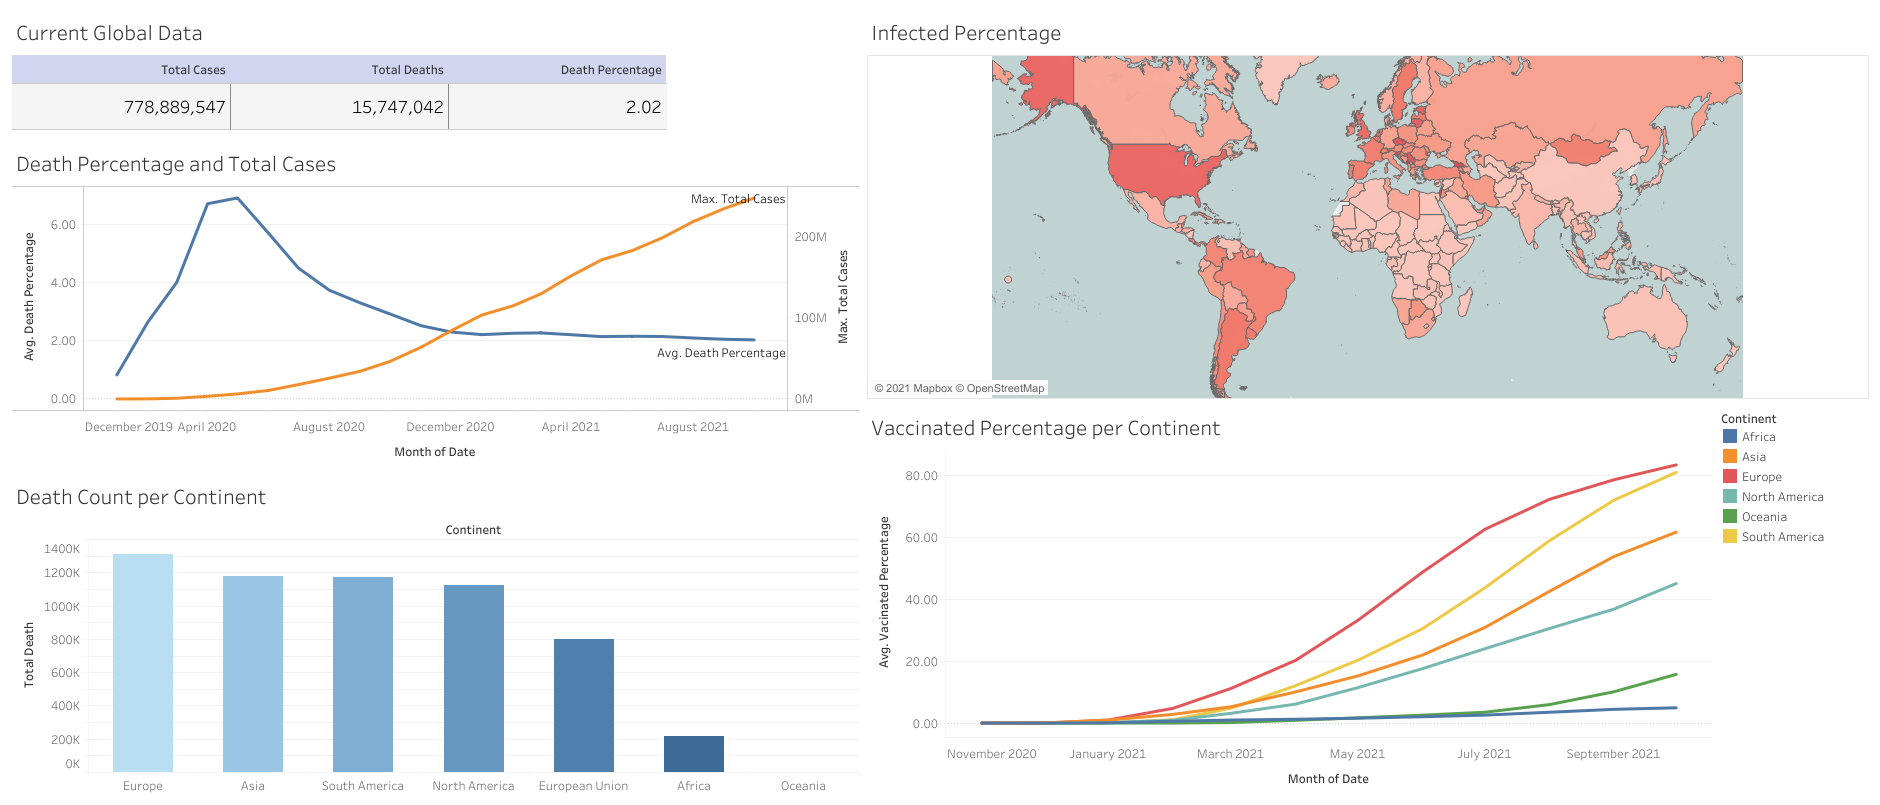

This screenshot's page, from the dashboard's own definition file:
{"tool":"tableau","page":{"name":"Dashboard 1","canvas":[1000,1000],"units":"permille","ordinal":0},"visuals":[{"type":"worksheet","title":"Sheet 7","mark":"Automatic","box":[4.8,9.2,453.8,162.7]},{"type":"worksheet","title":"Sheet 5","mark":"Automatic","box":[458.7,9.2,536.5,490.8]},{"type":"worksheet","title":"Sheet 4","mark":"Automatic","rows":["deathPercentage","totalCases"],"cols":["date"],"box":[4.8,171.8,453.8,413.5]},{"type":"worksheet","title":"Sheet 3","mark":"Automatic","rows":["VacinatedPercentage"],"cols":["date"],"box":[458.7,500,453.2,490.8]},{"type":"legend","title":"Sheet 3","param":"[federated.0kl79fe16oegq611ldq8b1d50rb4].[none:continent:nk]","box":[911.9,500,83.3,490.8]},{"type":"worksheet","title":"Sheet 6","mark":"Automatic","rows":["total_death"],"cols":["location"],"box":[4.8,585.3,453.8,405.5]}]}

Visuals, with their boxes on the dashboard's canvas, which has no fixed pixel size, in thousandths of its width and height (x1, y1, x2, y2). These are canvas units, not pixel positions in the 1880x805 screenshot, which may show the page scaled, cropped or inside an application window:
"Sheet 7" worksheet: region(5, 9, 459, 172)
"Sheet 5" worksheet: region(459, 9, 995, 500)
"Sheet 4" worksheet: region(5, 172, 459, 585)
"Sheet 3" worksheet: region(459, 500, 912, 991)
"Sheet 3" legend: region(912, 500, 995, 991)
"Sheet 6" worksheet: region(5, 585, 459, 991)
